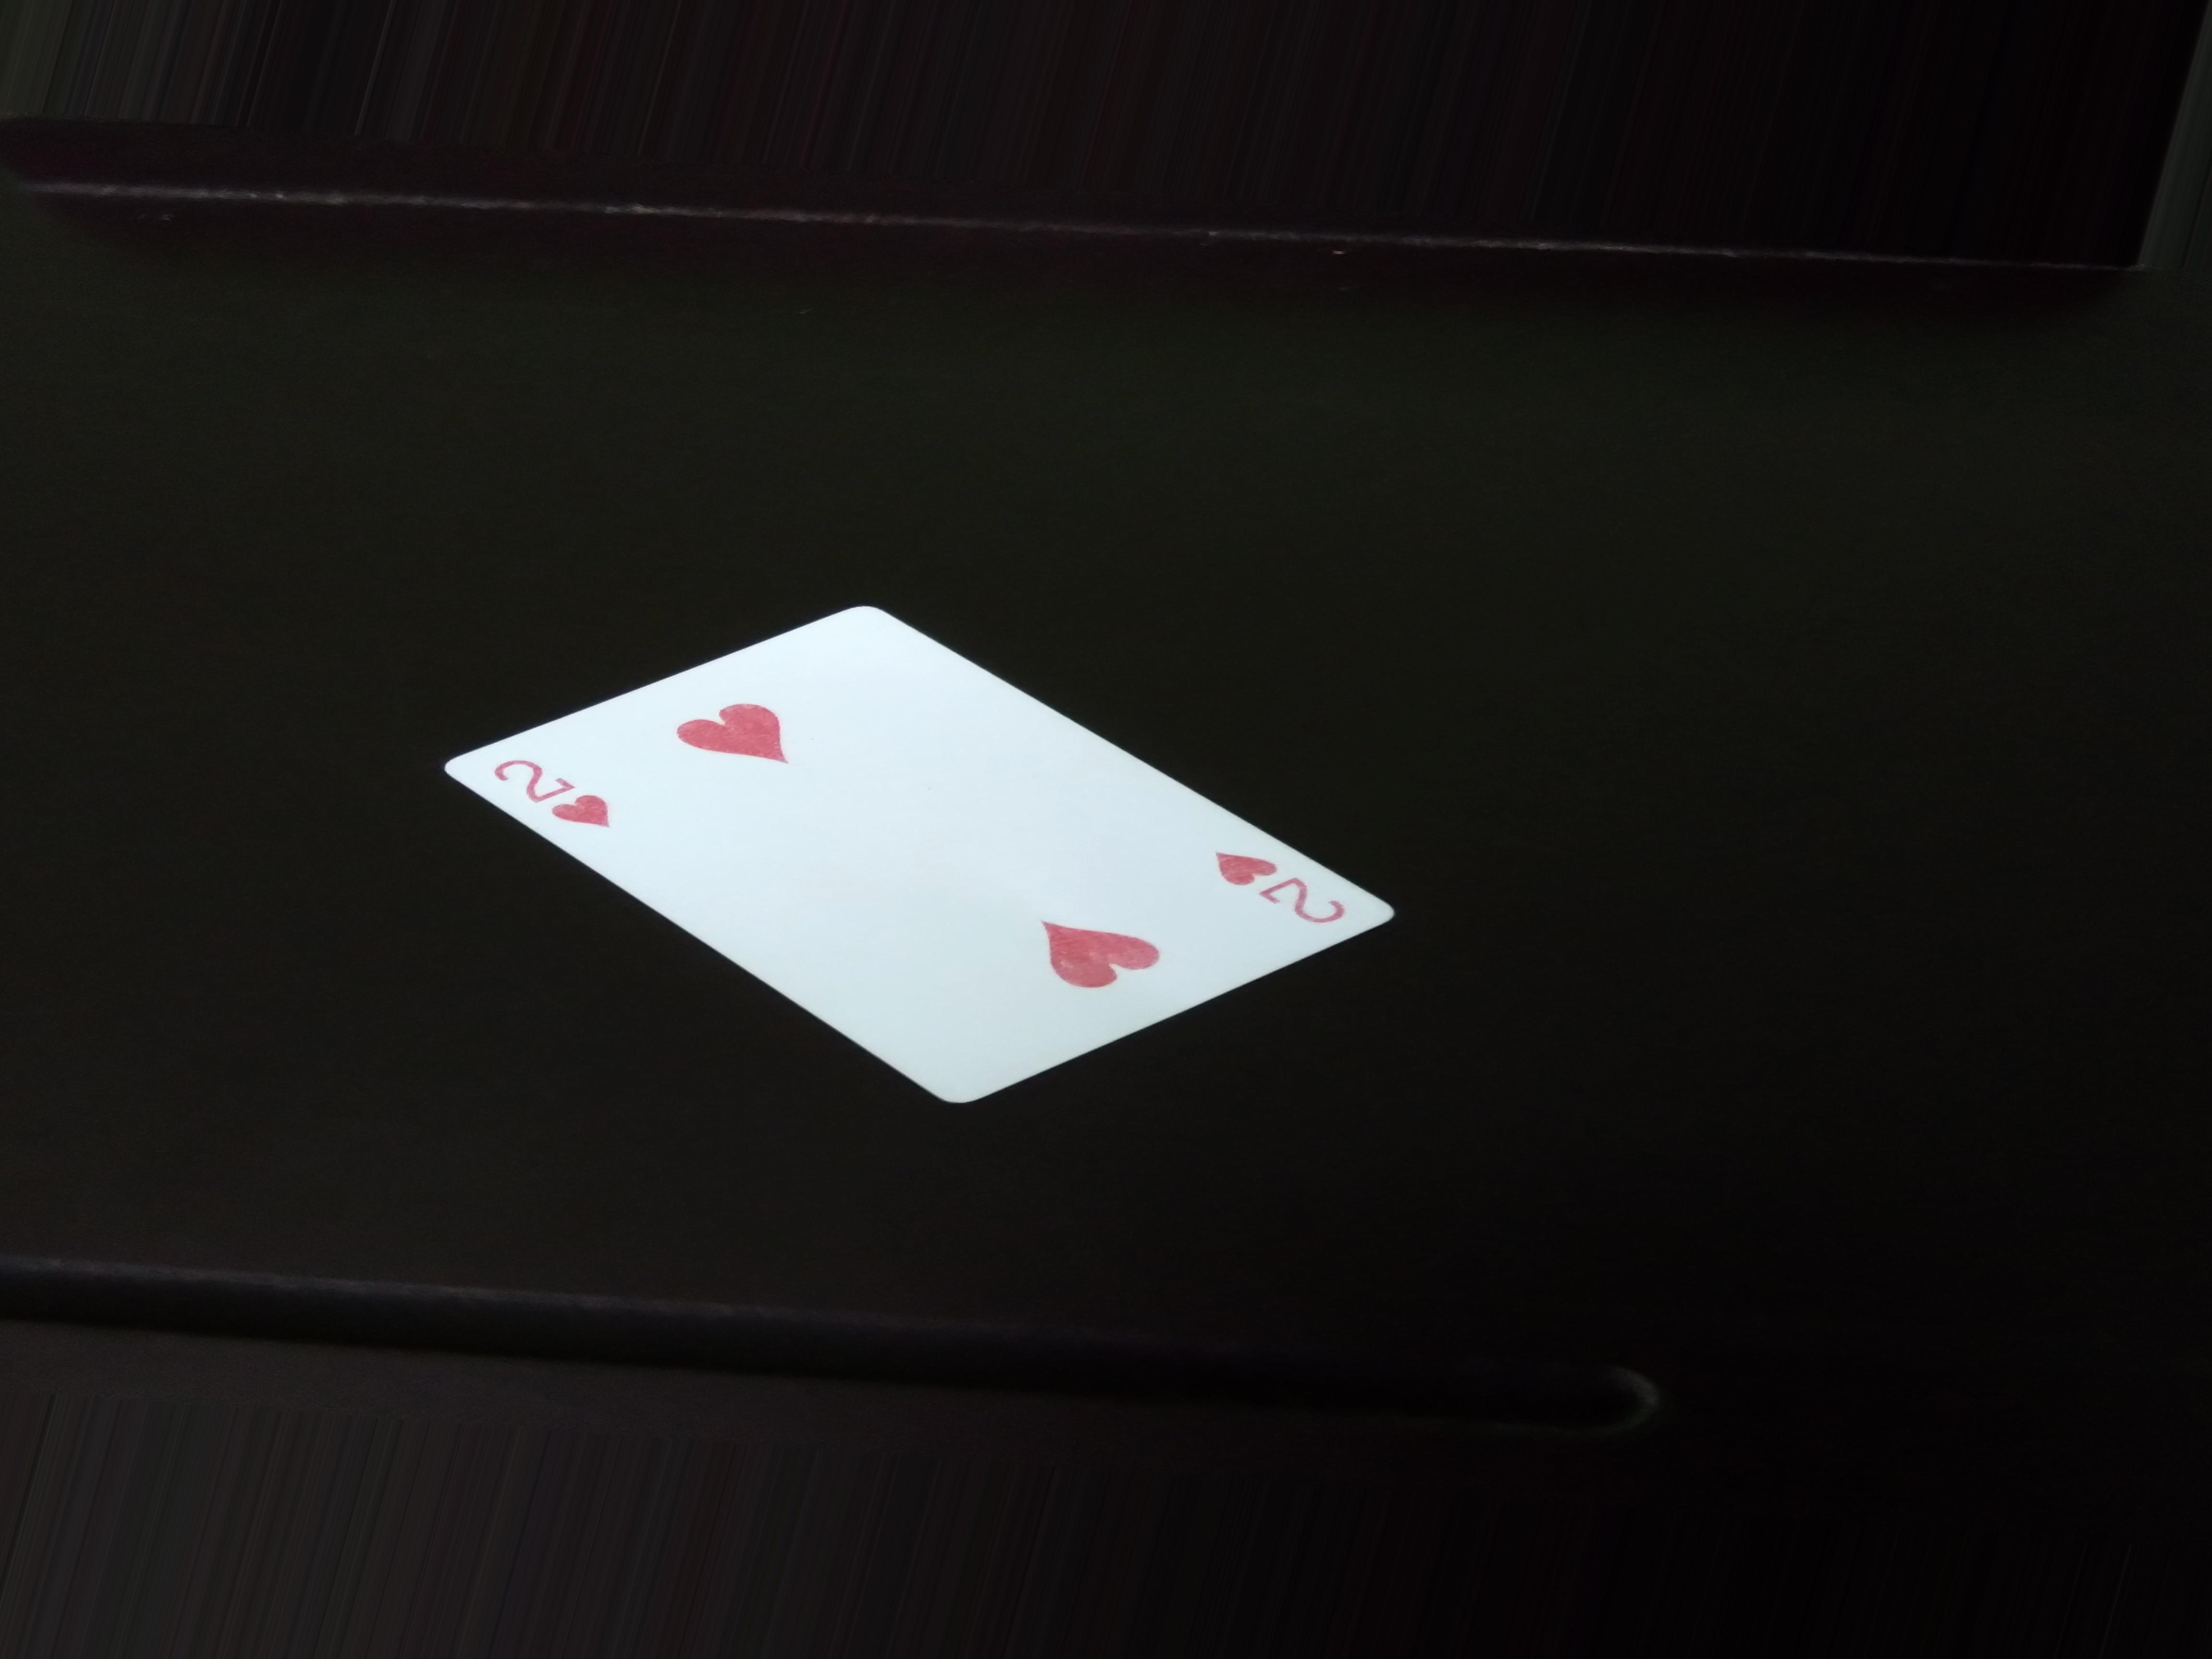2H: (479, 758, 644, 849)
